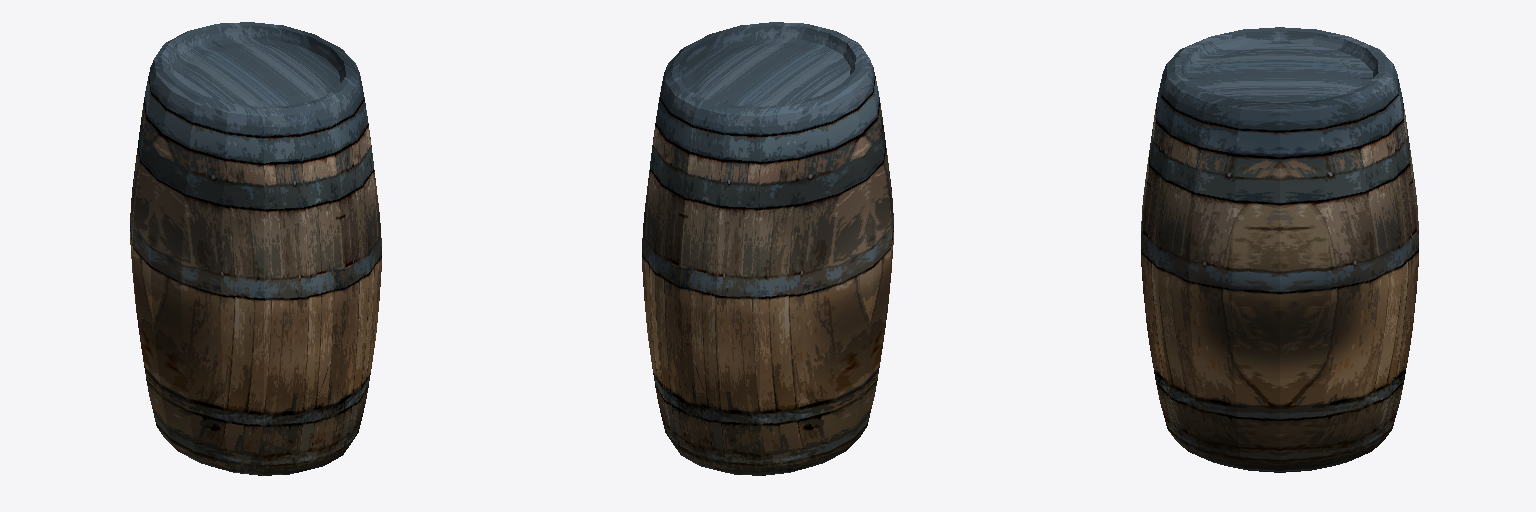
3 views of the same model, side by side, from view 1: azimuth 30°, elevation 25°; view 2: azimuth 150°, elevation 25°; view 3: azimuth 270°, elevation 25° (orthographic).
Visible parts, largest first — view 1: pCylinder1; view 2: pCylinder1; view 3: pCylinder1.
Boxes of the visible parts, x1=… form: pCylinder1: x1=130, y1=22, x2=381, y2=475; pCylinder1: x1=642, y1=22, x2=893, y2=475; pCylinder1: x1=1141, y1=27, x2=1418, y2=472.
Size of the model in its own units: 10.41 by 17.98 by 11.9.
Materials: 1 (1 with a texture image).